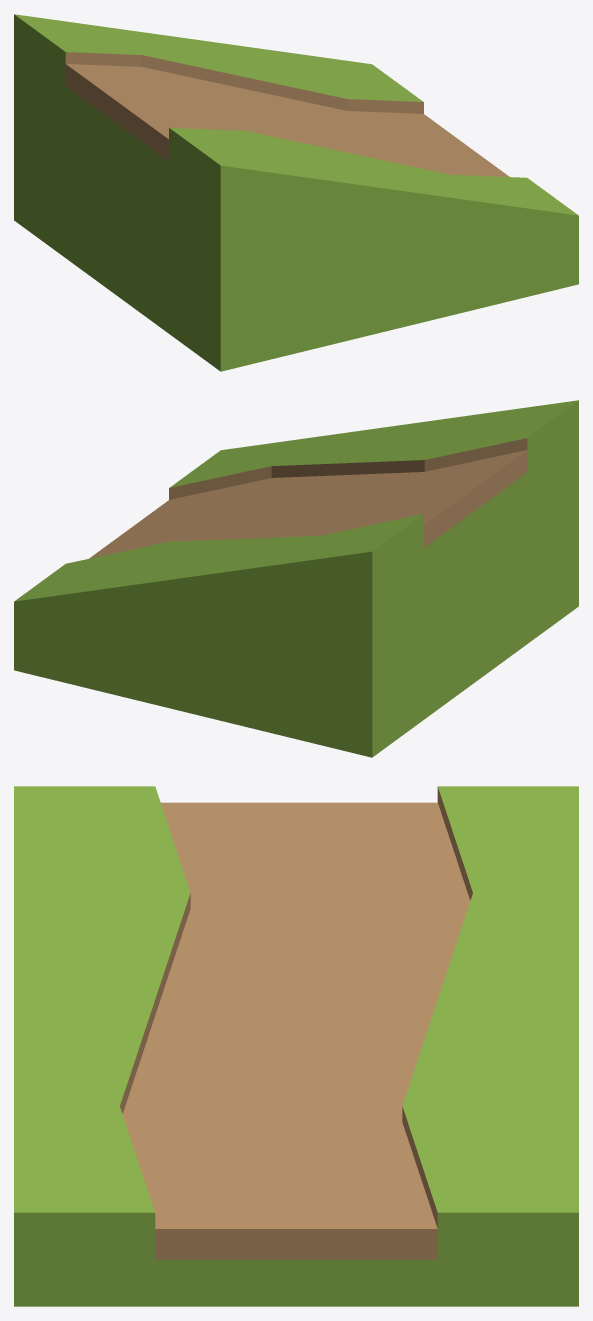
File: tile198.dae
3 renders of one model, top to bottom at view 1: azimuth 30°, elevation 25°; view 2: azimuth 150°, elevation 25°; view 3: azimuth 270°, elevation 25°, orthographic. The views are drawn at different scales.
Visible parts, largest first — view 1: tile198; view 2: tile198; view 3: tile198.
Boxes of the visible parts, <box> form: tile198: <box>14,14,578,371</box>; tile198: <box>14,400,578,757</box>; tile198: <box>14,786,578,1306</box>.
Size of the model in its own units: 1 by 0.55 by 1.
